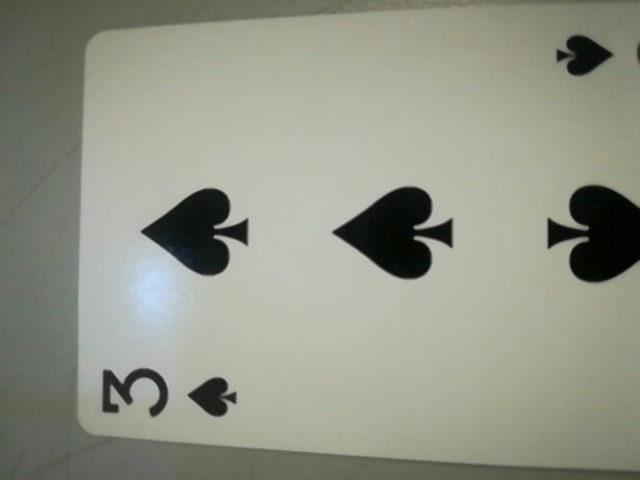ht 3: (87, 351, 257, 439)
